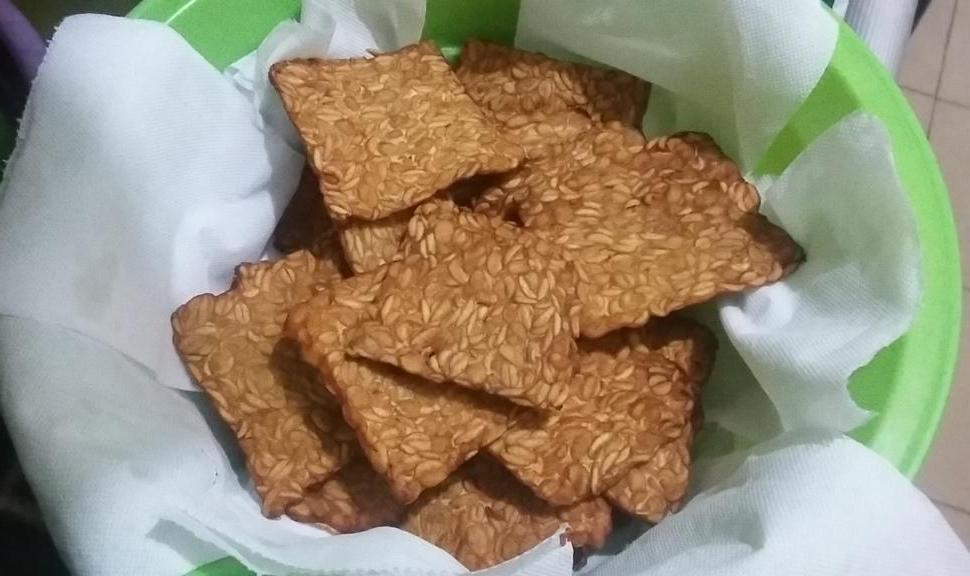Tempe: (170, 265, 335, 524), (337, 227, 566, 402), (591, 120, 757, 351), (475, 354, 677, 535), (287, 46, 462, 201)
